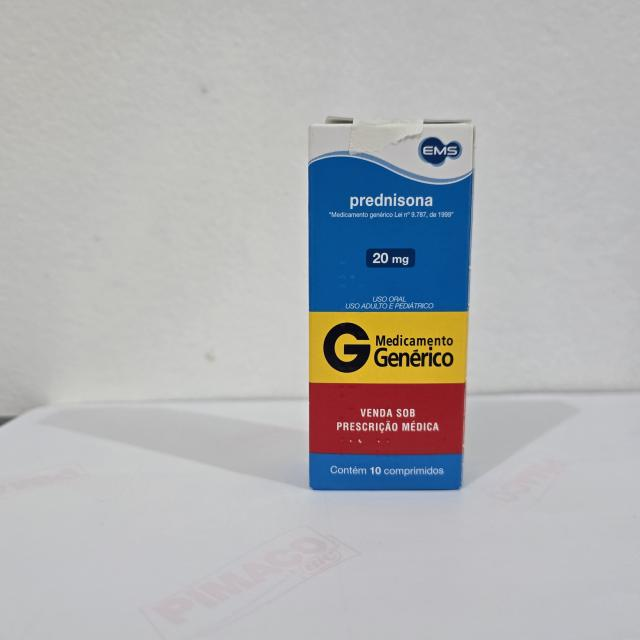prednisona: (302, 110, 479, 493)
